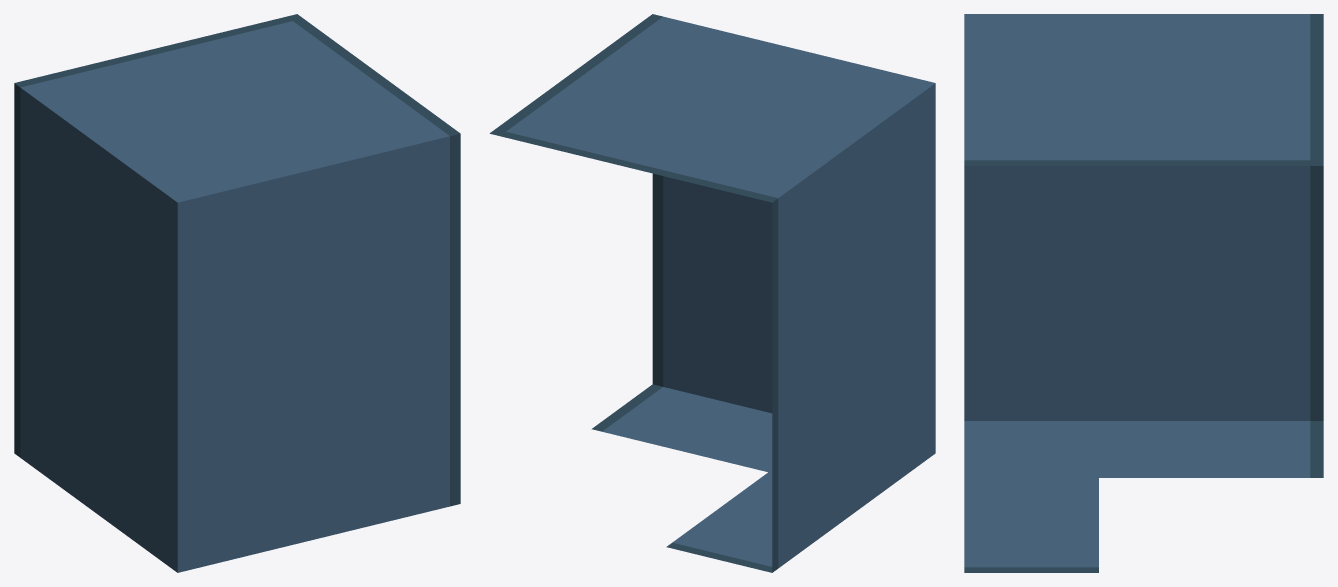
Rendered from M_RoofTrimOutMarine20-1.FBX.
3 renders of one model, left to right at view 1: azimuth 30°, elevation 25°; view 2: azimuth 150°, elevation 25°; view 3: azimuth 270°, elevation 25°, orthographic. The views are drawn at different scales.
Parts seen in each view (by area): view 1: M_RoofTrimOutMarine20-1; view 2: M_RoofTrimOutMarine20-1; view 3: M_RoofTrimOutMarine20-1.
Part boxes in pixels (<box>): M_RoofTrimOutMarine20-1: <box>14,14,460,572</box>; M_RoofTrimOutMarine20-1: <box>489,14,935,572</box>; M_RoofTrimOutMarine20-1: <box>964,14,1323,572</box>.
Size of the model in its own units: 0.8 by 1 by 0.8.
